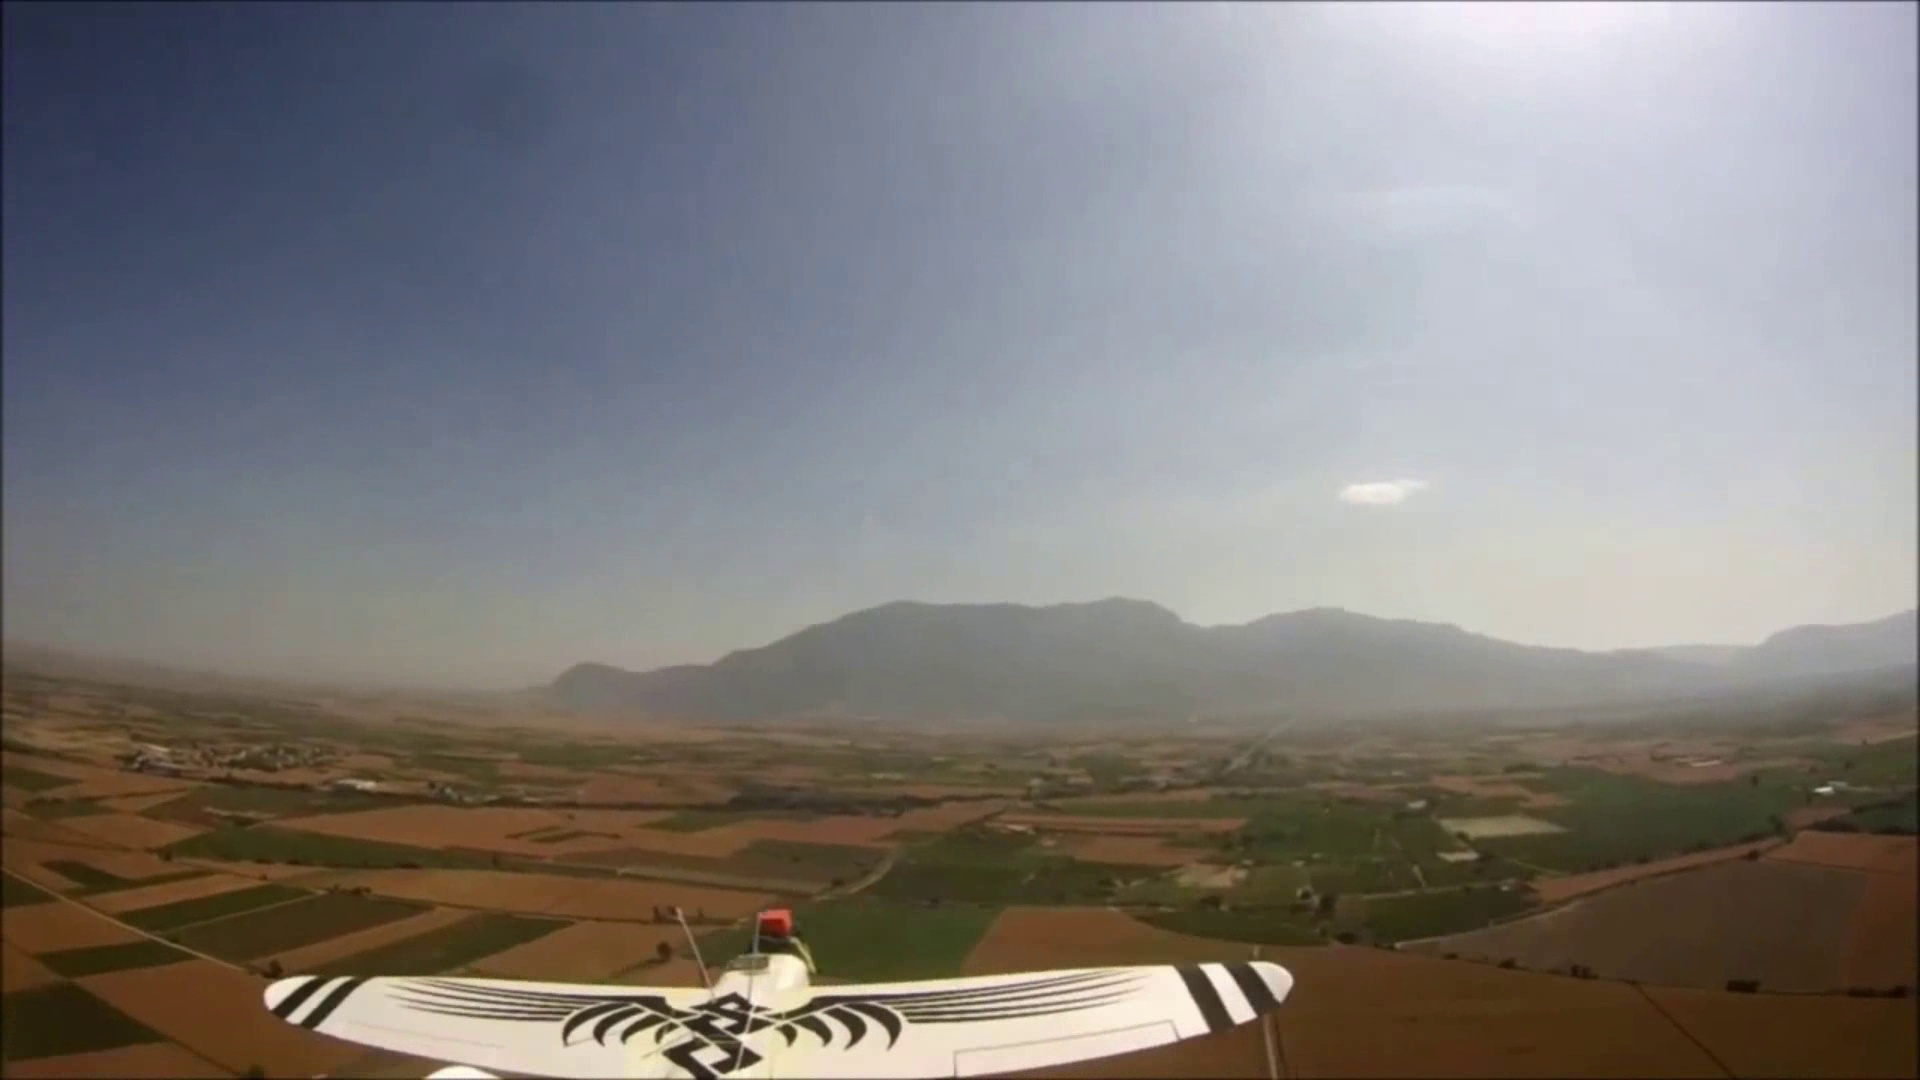airplane: (11, 884, 1288, 1077)
